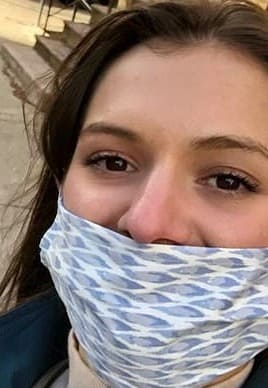with_incorrect_mask: (61, 60, 267, 374)
